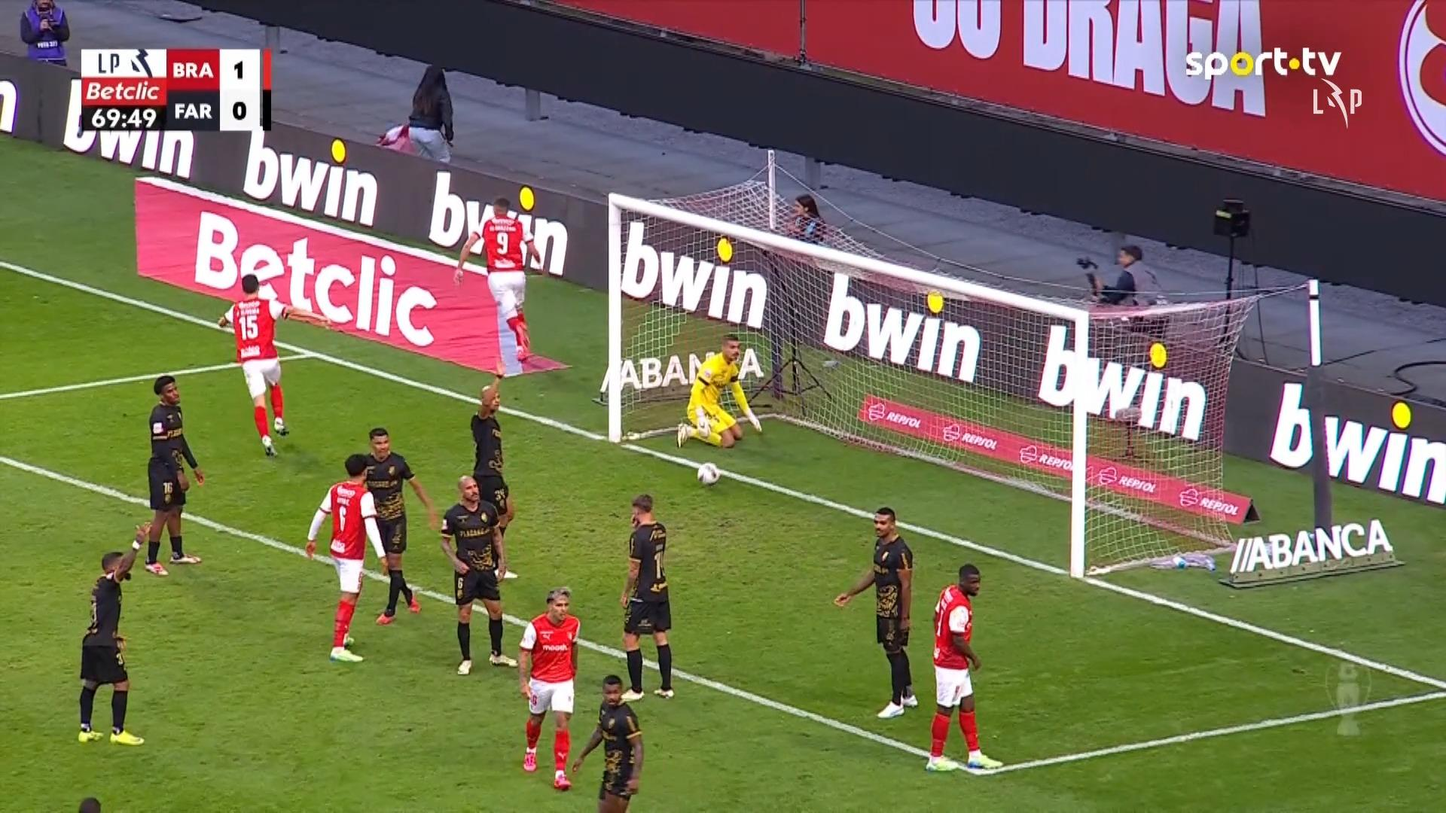ball: (697, 461, 718, 485)
goalkeeper: (676, 333, 764, 449)
player: (216, 273, 331, 458), (304, 452, 390, 663), (833, 506, 918, 719), (76, 520, 153, 745), (924, 562, 1004, 772), (438, 474, 518, 675), (359, 427, 438, 626), (453, 196, 544, 364), (517, 586, 581, 790), (141, 374, 205, 577), (618, 493, 674, 701), (570, 674, 644, 811), (469, 376, 515, 580)
